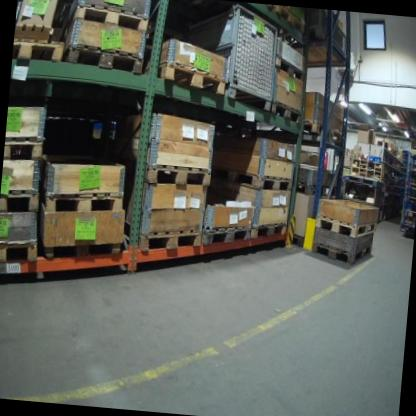pallet: (42, 185, 128, 220), (44, 234, 127, 268), (62, 44, 145, 75), (155, 63, 228, 97), (68, 4, 151, 33), (136, 223, 203, 258), (210, 167, 294, 193), (143, 161, 212, 190), (314, 214, 378, 242), (312, 239, 373, 268), (201, 221, 252, 251), (12, 36, 66, 64), (3, 132, 46, 163), (0, 187, 41, 219), (0, 236, 42, 267), (275, 5, 308, 32), (250, 219, 288, 242), (273, 56, 307, 81), (269, 101, 304, 125)
stillage: (165, 0, 284, 119)
